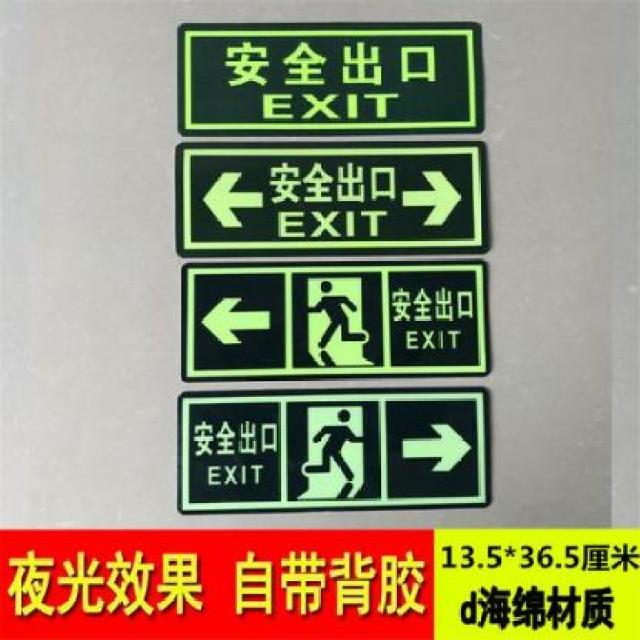exit_sign: (162, 390, 496, 514), (166, 143, 498, 255), (174, 264, 498, 374), (166, 15, 487, 126)
